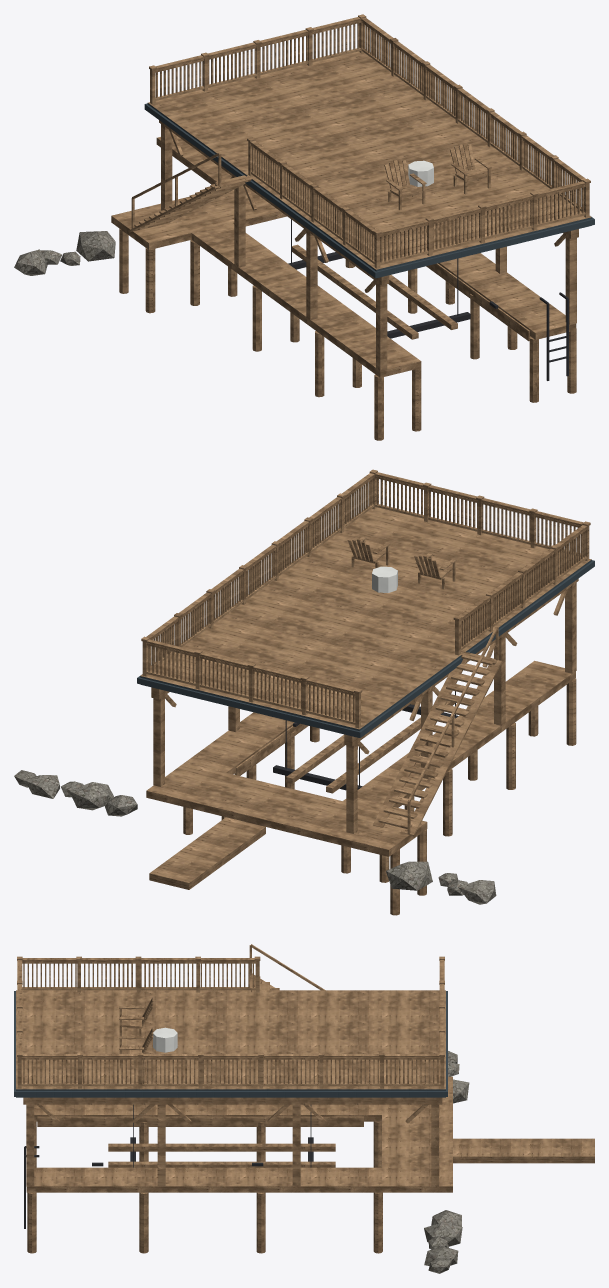
The model's file is gulf_boathouse_deck.fbx.
3 renders of one model, top to bottom at view 1: azimuth 30°, elevation 25°; view 2: azimuth 150°, elevation 25°; view 3: azimuth 270°, elevation 25°, orthographic. The views are drawn at different scales.
Visible parts, largest first — view 1: gulf_boathouse_deck_LOD0; view 2: gulf_boathouse_deck_LOD0; view 3: gulf_boathouse_deck_LOD0.
Part boxes in pixels (x1=…): gulf_boathouse_deck_LOD0: x1=14, y1=14, x2=594, y2=440; gulf_boathouse_deck_LOD0: x1=14, y1=469, x2=594, y2=915; gulf_boathouse_deck_LOD0: x1=14, y1=944, x2=594, y2=1273.
Size of what is drawn, in the model's own units: 14.4 by 6.26 by 16.36.
Materials: 1 (1 with a texture image).
